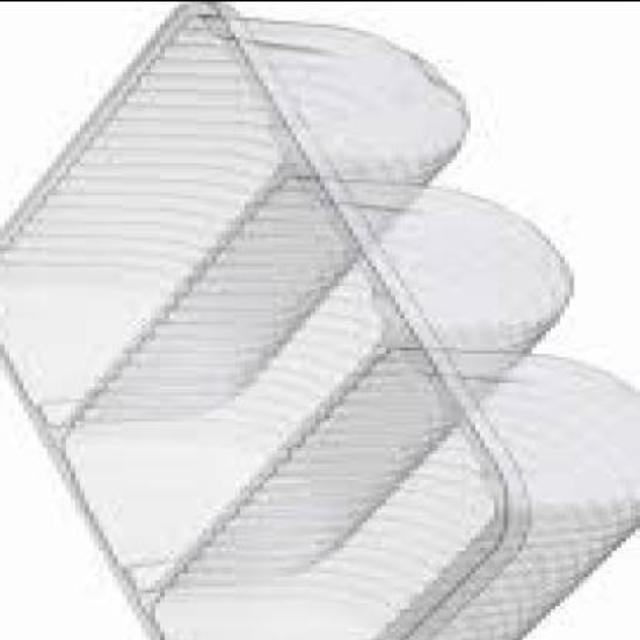plastic_box: (0, 4, 636, 638)
